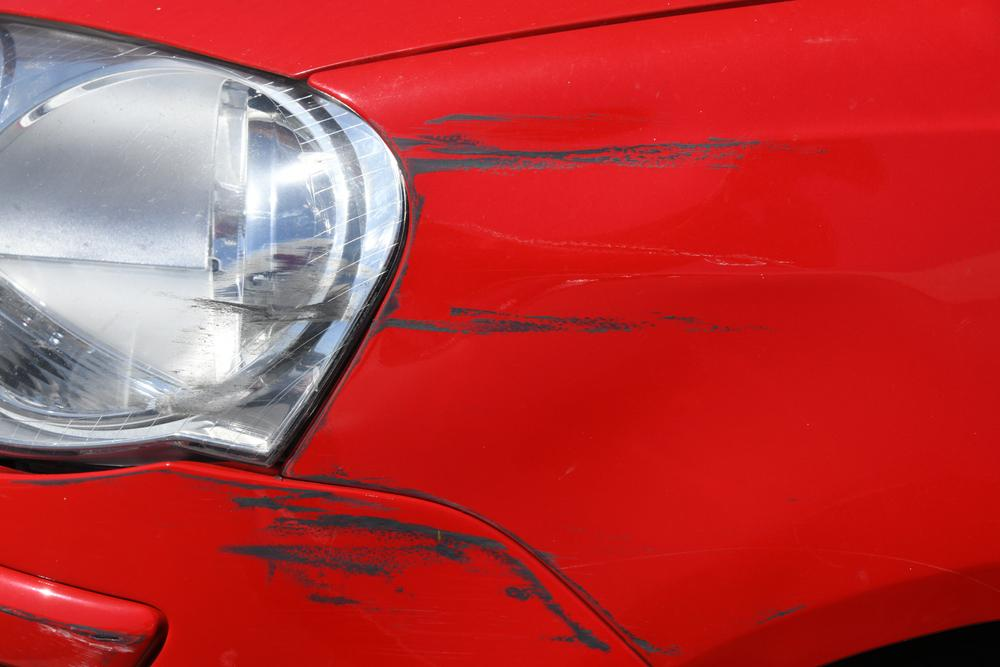scratch: (0, 461, 625, 658), (371, 101, 840, 344), (160, 237, 384, 418), (0, 595, 147, 667)
